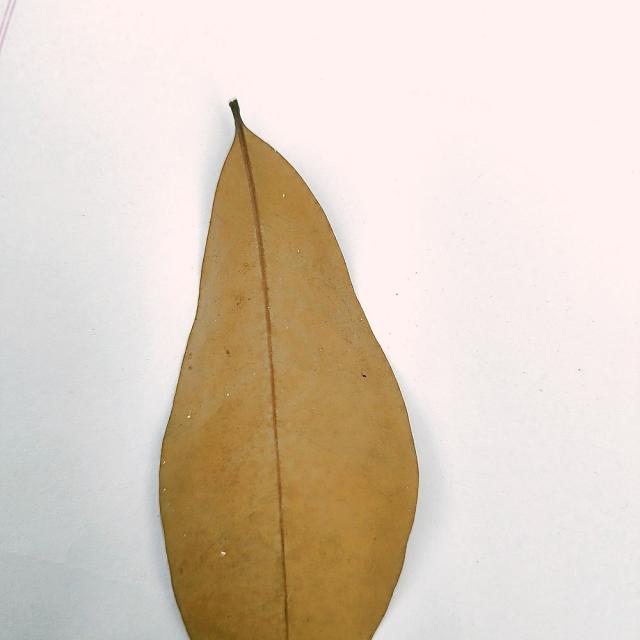Dry_Leaf-Lychee: (157, 102, 420, 639)
